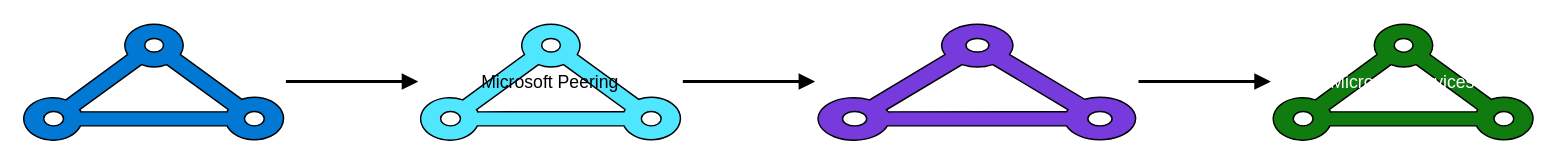
Image size: 1557x165. Some labels were removed from this diagram. The shapes that lost their labels are listed below. From the top down, each one's box as (x1, y1, x2, y2) in pixels, then its label:
(20, 21, 286, 140): Customer Router
(814, 21, 1139, 140): Route Filter / BGP Communities
